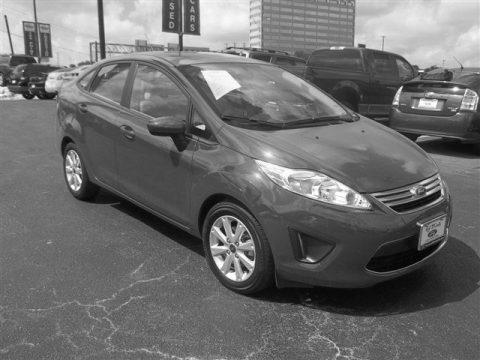car: (54, 51, 457, 301)
